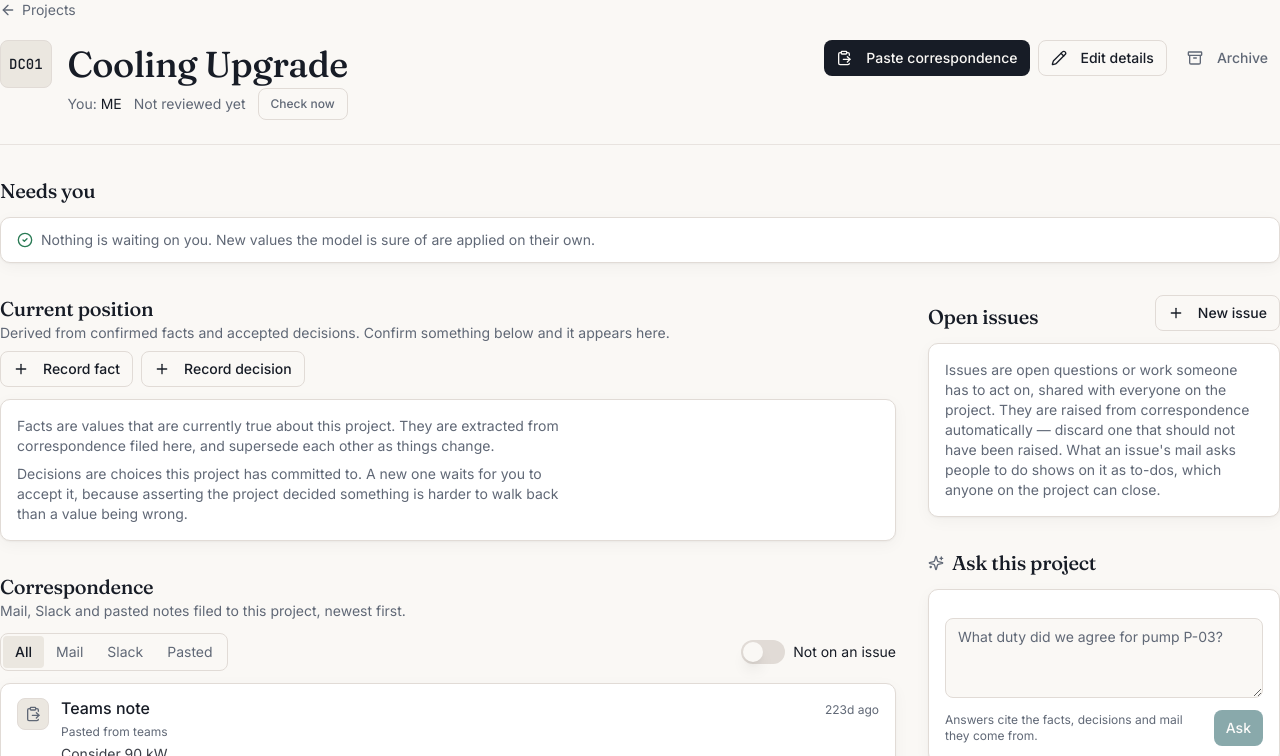
Test case: Project workspace UI › answers questions about the project, saying how many sources it used
Type "What is Pump P-03 duty?" into the text box named "Question" at (1104, 658), box [945,618,1263,698]
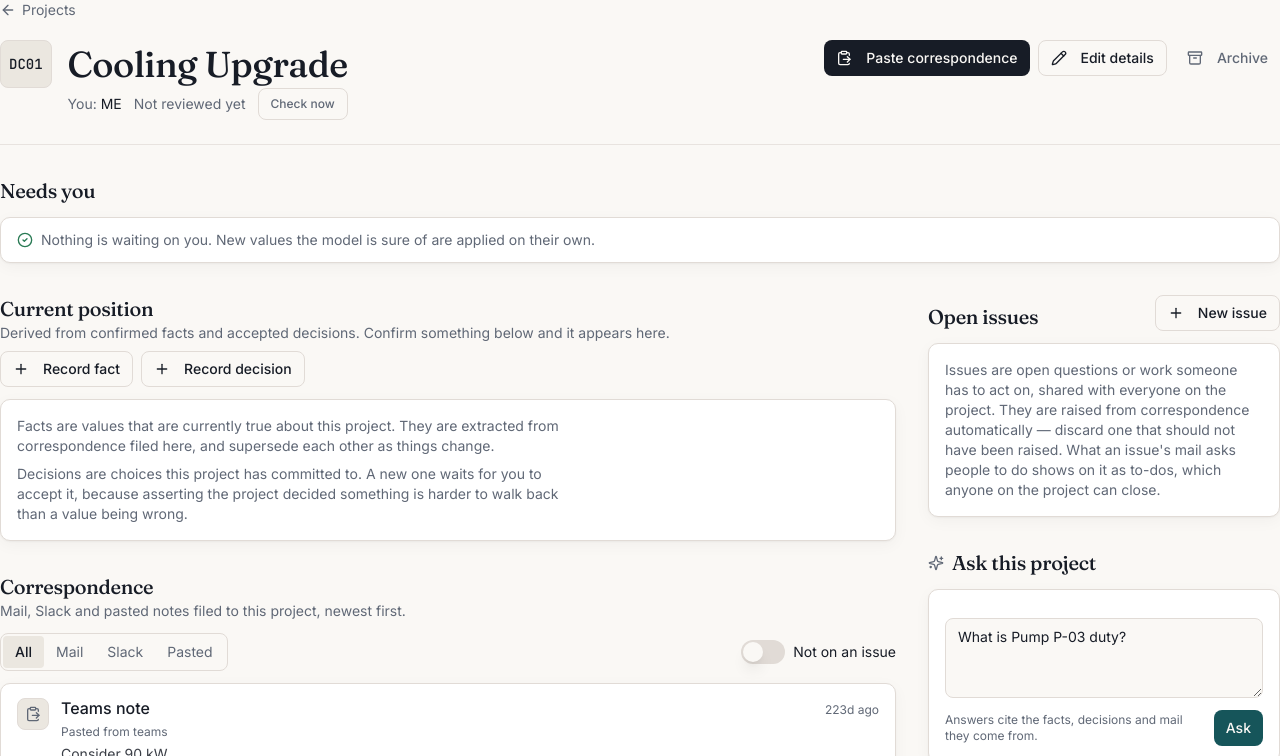
Click the button "Ask" at (1238, 728), box [1214,710,1263,746]
(page scrolled)
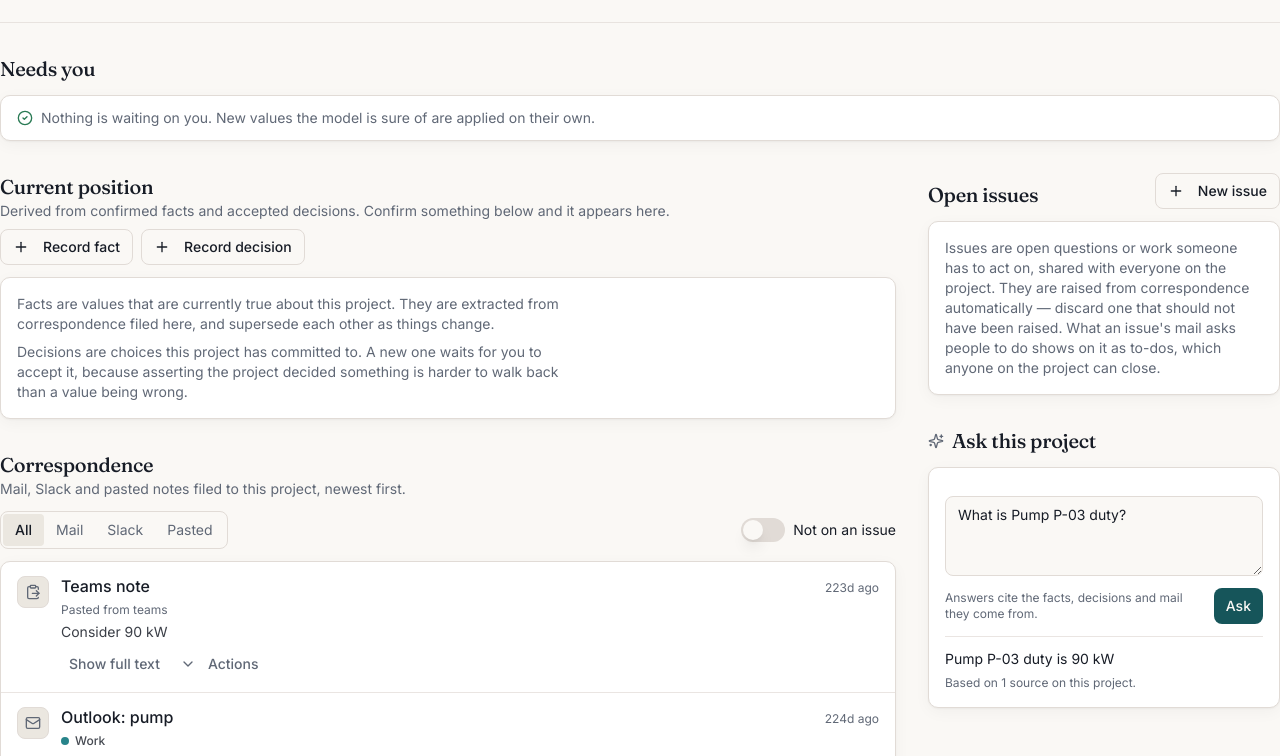
Check: the text "Pump P-03 duty is 90 kW" is shown, box [945,650,1114,667]
Check: the text "Based on 1 source on this project." is shown, box [945,675,1136,690]
